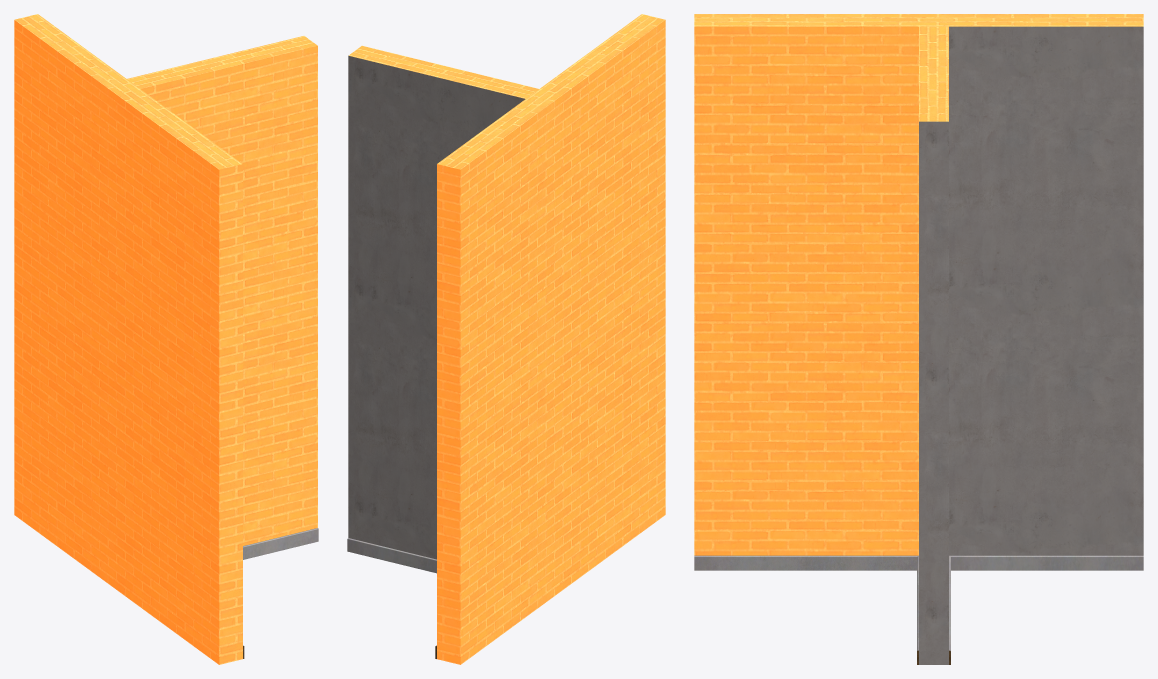
File: SM_Wall_T_Intersection_3x3_5_01d.fbx
3 renders of one model, left to right at view 1: azimuth 30°, elevation 25°; view 2: azimuth 150°, elevation 25°; view 3: azimuth 270°, elevation 25°, orthographic. The views are drawn at different scales.
Visible parts, largest first — view 1: SM_Wall_T_Intersection_3x3_5_01d; view 2: SM_Wall_T_Intersection_3x3_5_01d; view 3: SM_Wall_T_Intersection_3x3_5_01d.
Boxes of the visible parts, x1,y1,x2,y2 form: SM_Wall_T_Intersection_3x3_5_01d: (14, 14, 318, 664); SM_Wall_T_Intersection_3x3_5_01d: (347, 14, 665, 664); SM_Wall_T_Intersection_3x3_5_01d: (694, 14, 1143, 664).
Size of the model in its own units: 170 by 400 by 300.
